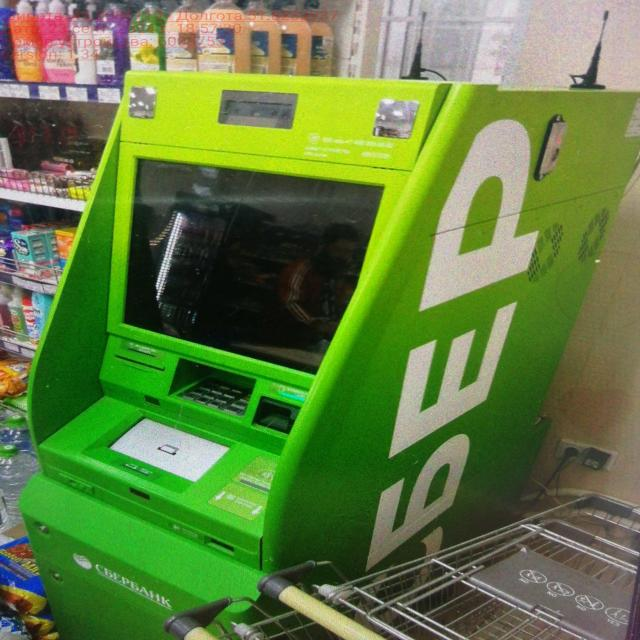bank: (27, 63, 640, 640)
